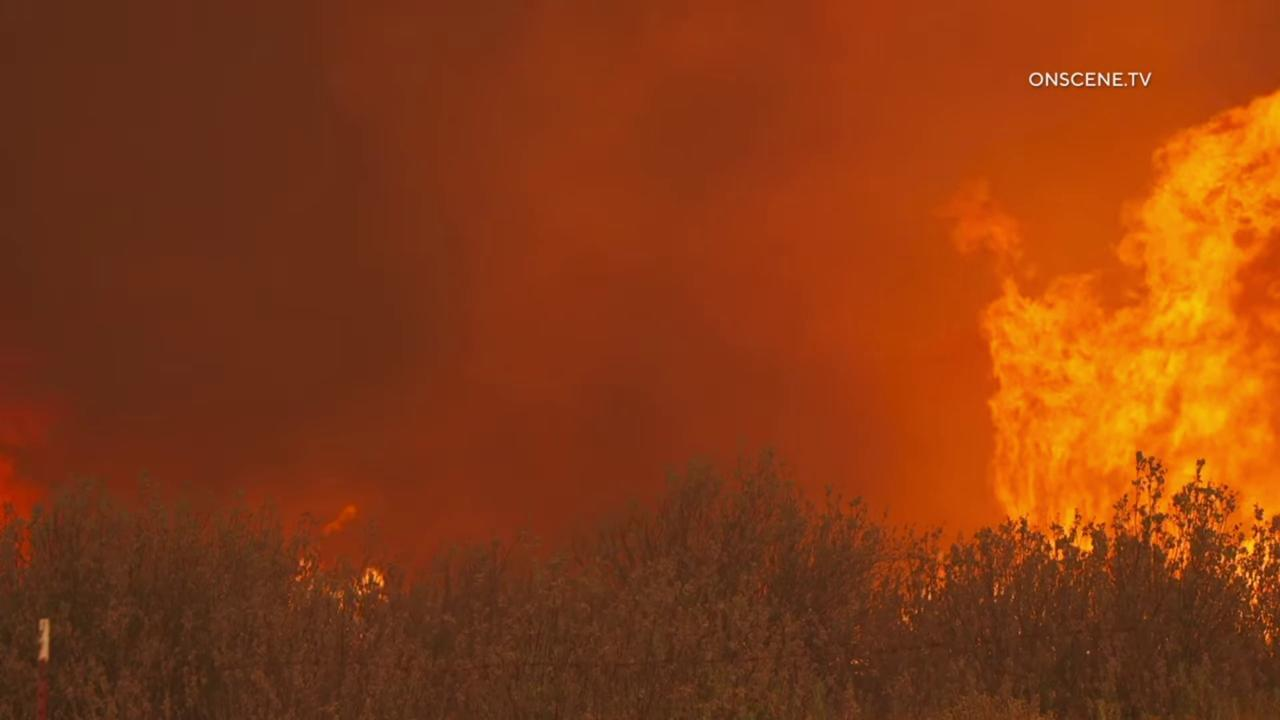fire: (939, 86, 1280, 658), (0, 394, 61, 594), (275, 552, 398, 618)
smoke: (0, 0, 1280, 664)
